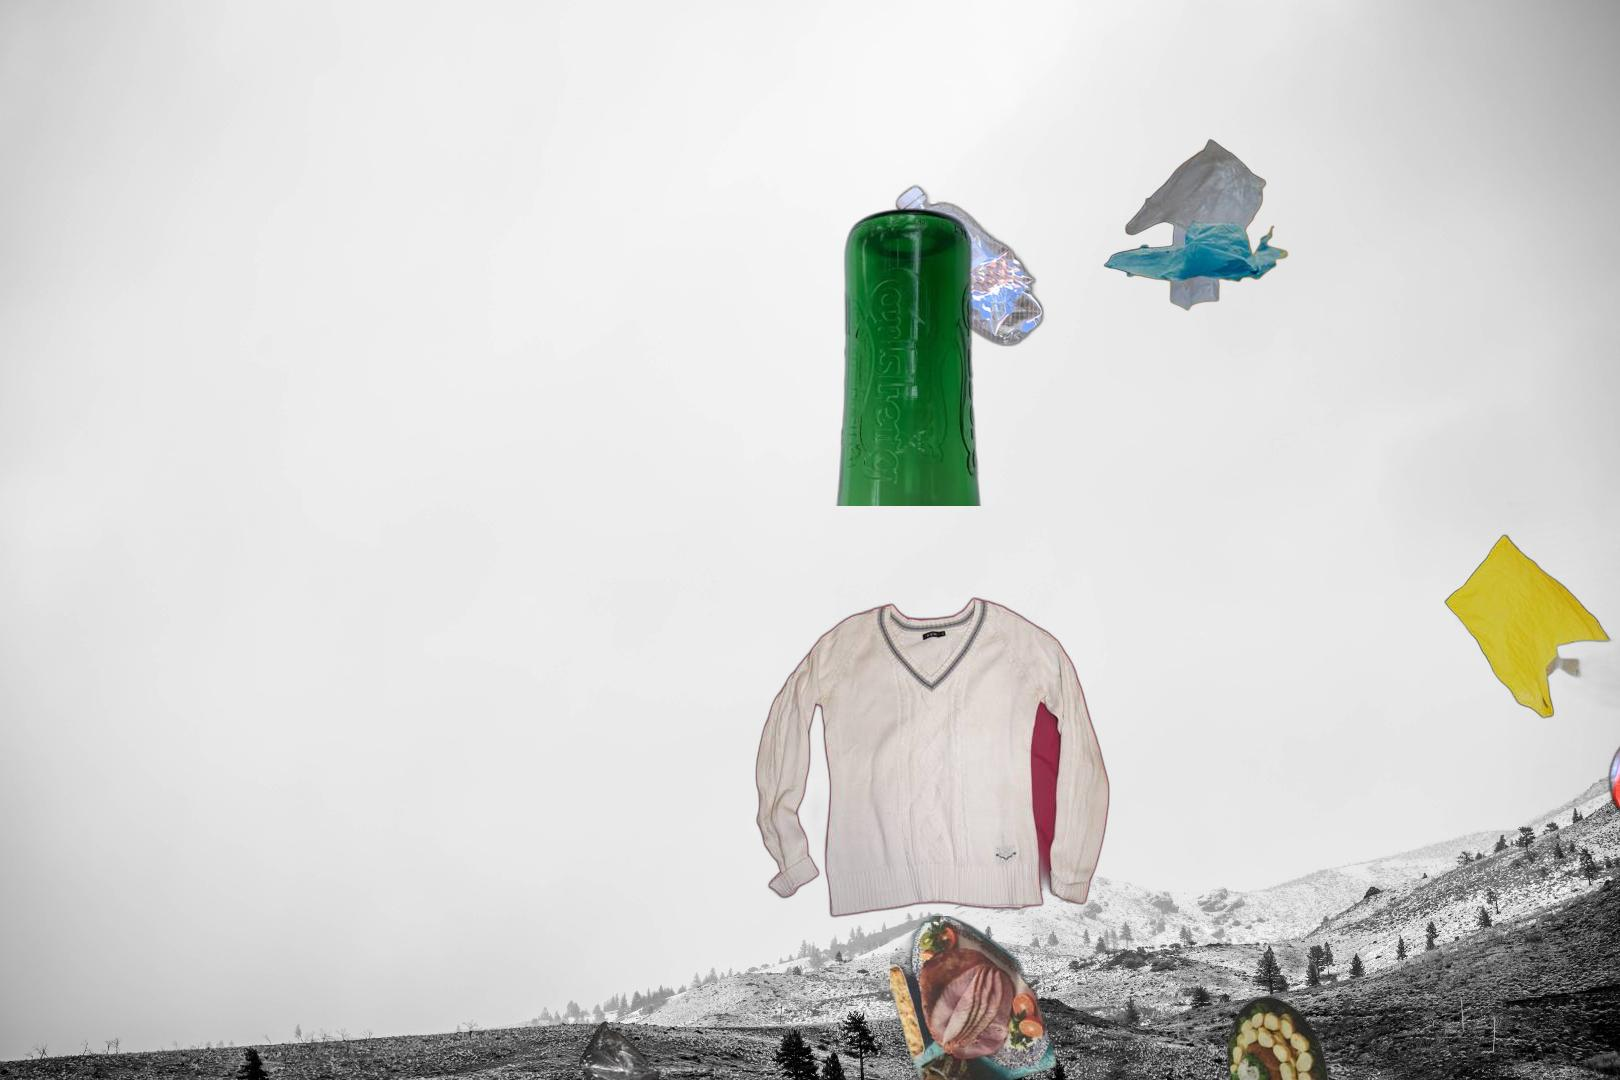clothes: (752, 593, 1113, 921)
glass: (833, 206, 984, 506)
metal-cans: (1508, 501, 1620, 1080)
paper: (890, 916, 1334, 1080)
plastic-bag: (1443, 528, 1620, 818), (1100, 137, 1289, 312), (577, 1019, 667, 1080)
plastic-bottles: (891, 181, 1047, 352)
